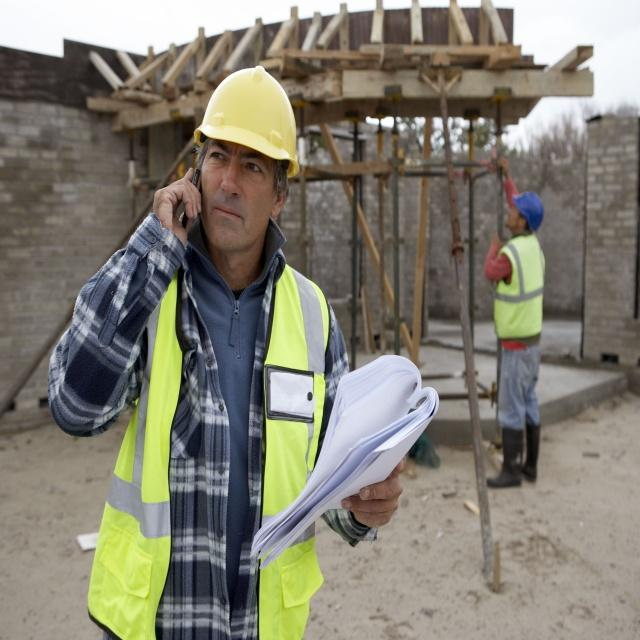helmet: (187, 84, 299, 335), (502, 254, 547, 314)
vest: (93, 329, 337, 640), (489, 311, 551, 458)
